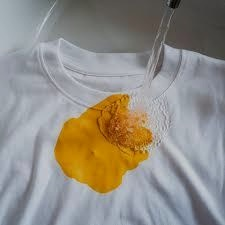mustard: (54, 97, 146, 192), (98, 109, 134, 153), (134, 126, 155, 150)
